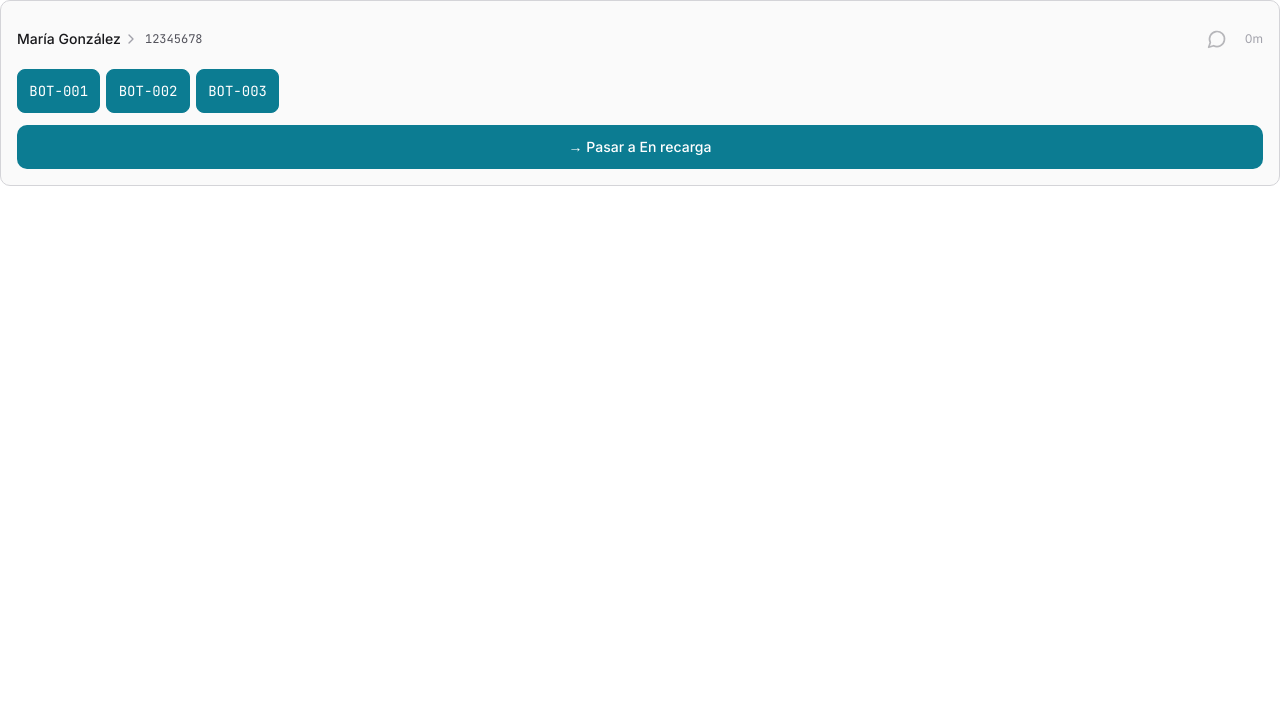
Scenario: Undo flow — REQ-COS-19 (Slice C) › reverts the optimistic removal and shows a red toast without undo on RPC error (S3)
Click the button "→ Pasar a En recarga". click: (640, 147)
box: [17,125,1263,169]
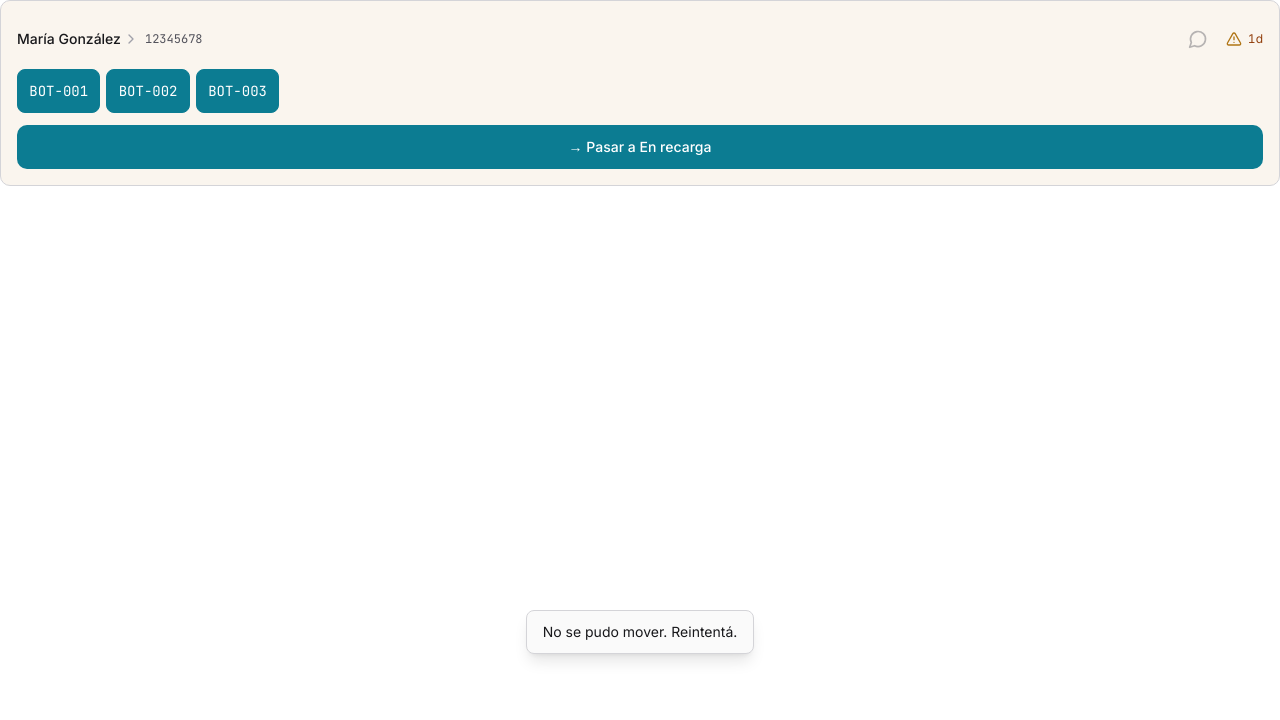
Check: the text "No se pudo mover. Reintentá." is shown, box [543,622,737,642]
